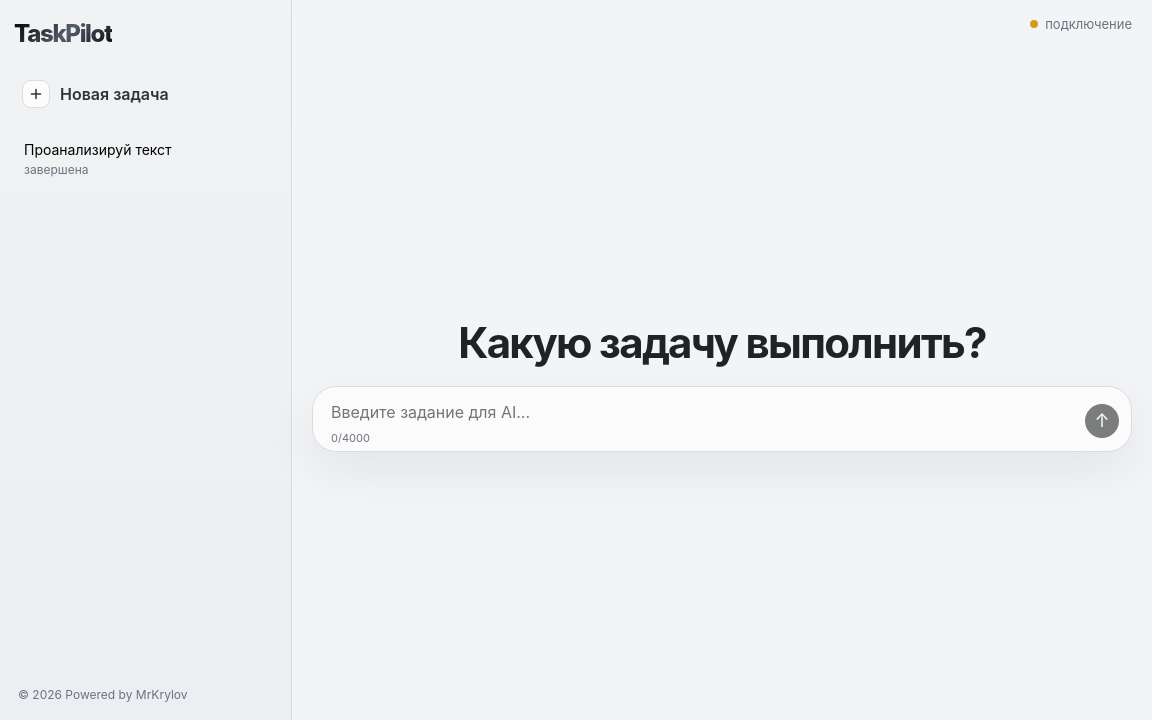
it: AI Agent frontend › не показывает кнопку отмены для terminal state
This screenshot has width=1152, height=720.
What coordinates should you click on to do the following:
click the text "Проанализируй текст"
I would click on:
 (98, 150)
Its box is [24,141,172,158].
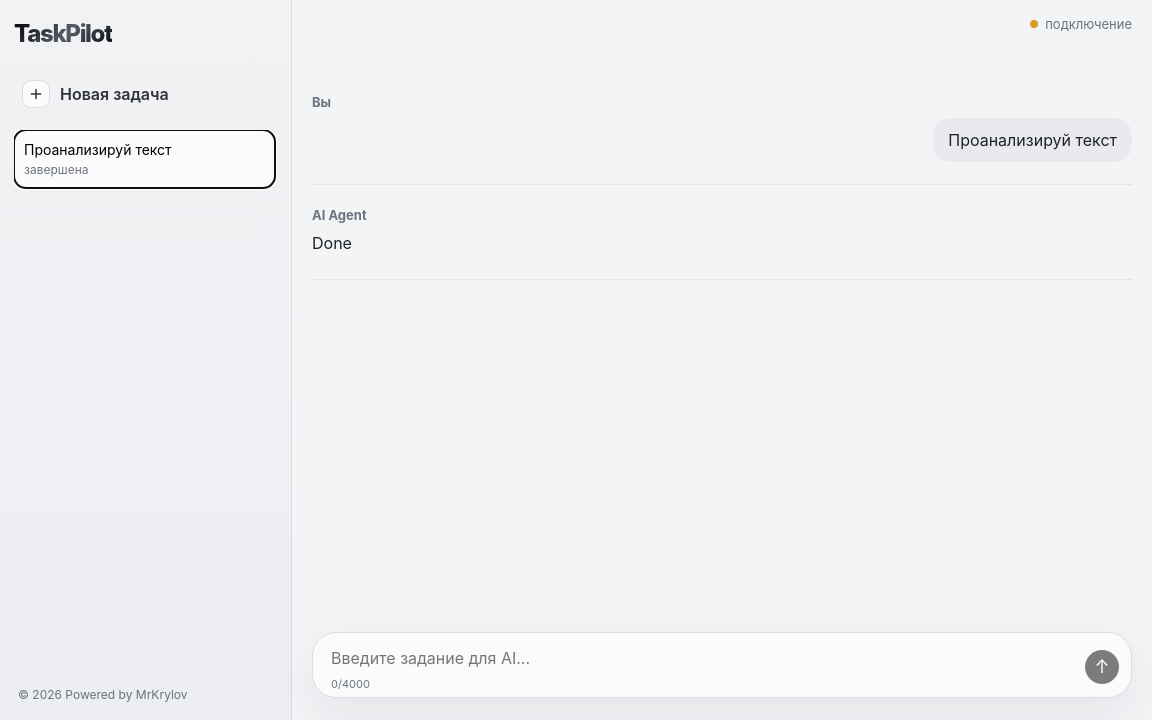
Now the text "Done" is shown, box [312,233,352,253]
